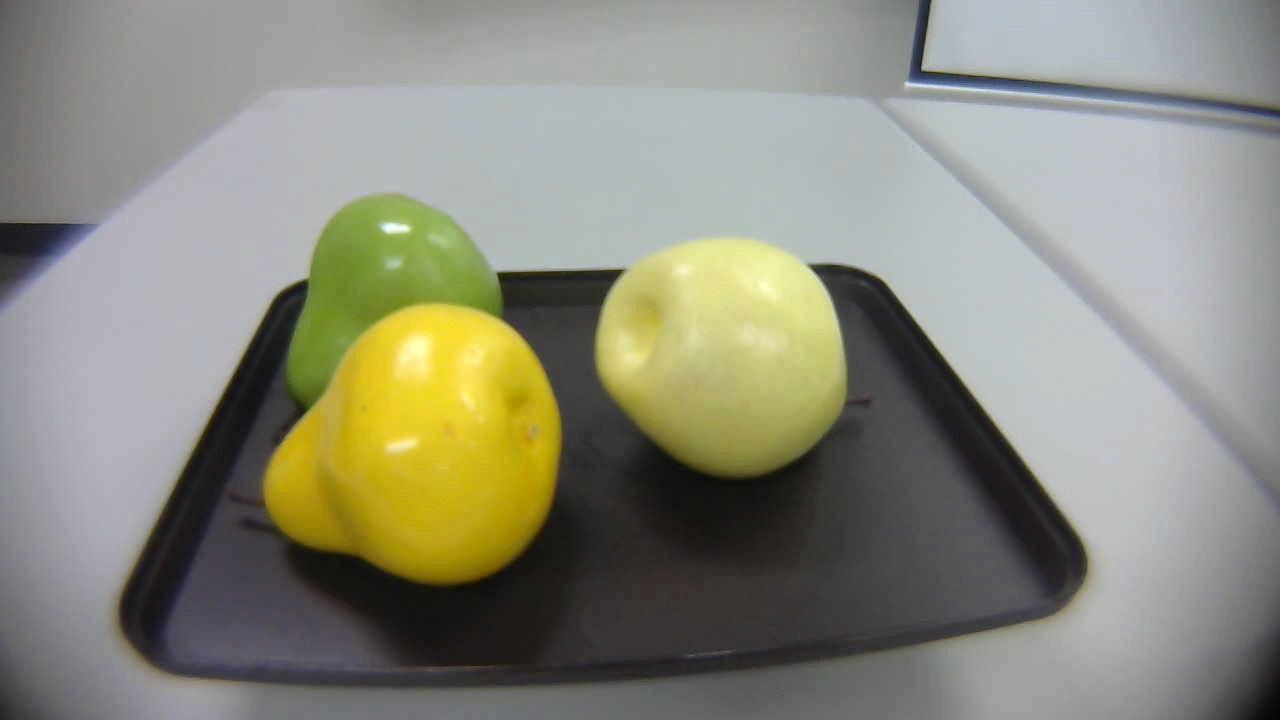green pear: (254, 193, 520, 458)
western pear: (589, 234, 888, 487)
yellow pear: (226, 301, 560, 600)
